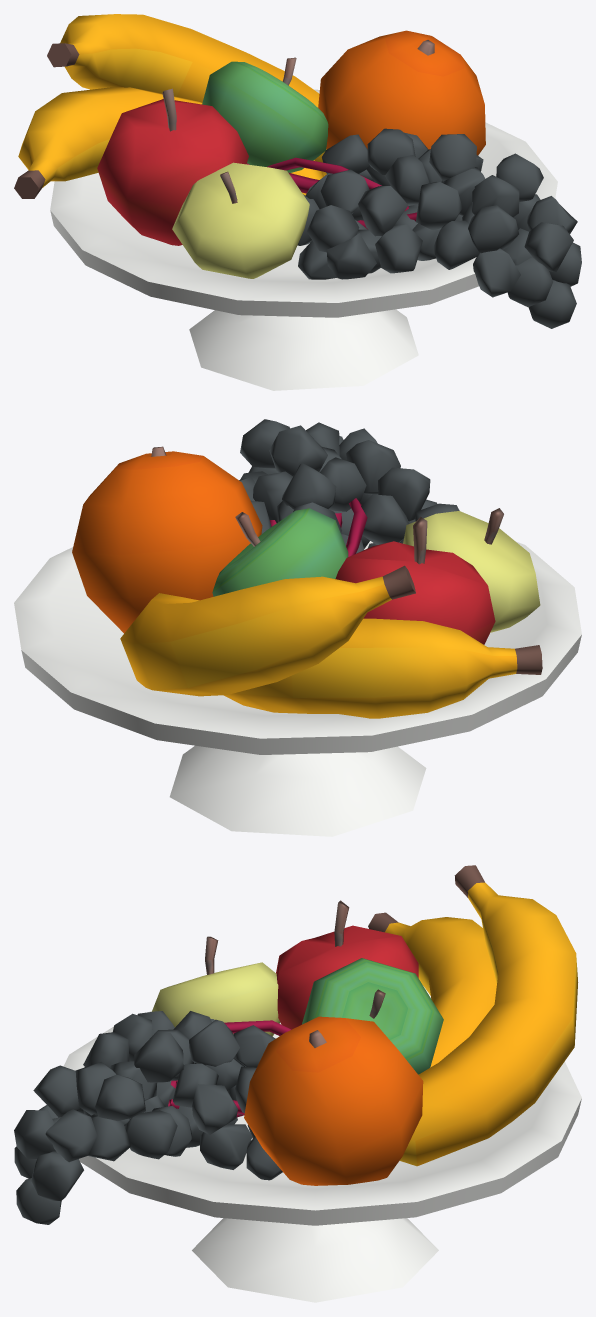
Rendered from fruits-01.glb.
The picture shows the model from 3 angles, top to bottom: view 1: azimuth 30°, elevation 25°; view 2: azimuth 150°, elevation 25°; view 3: azimuth 270°, elevation 25°; orthographic projection. The views are drawn at different scales.
Parts seen in each view (by area): view 1: Fruits_01; view 2: Fruits_01; view 3: Fruits_01.
Boxes of the visible parts, x1,y1,x2,y2 form: Fruits_01: (14,14,581,390); Fruits_01: (14,419,581,836); Fruits_01: (14,865,581,1302).
Size of the model in its own units: 0.4538 by 0.2619 by 0.4503.
2 materials, 2 textured.
